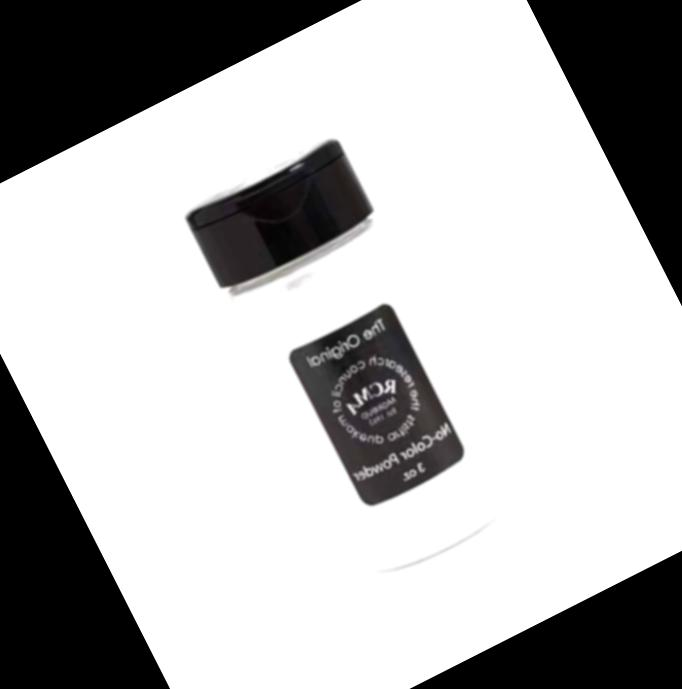cosmetic: (173, 130, 529, 586)
